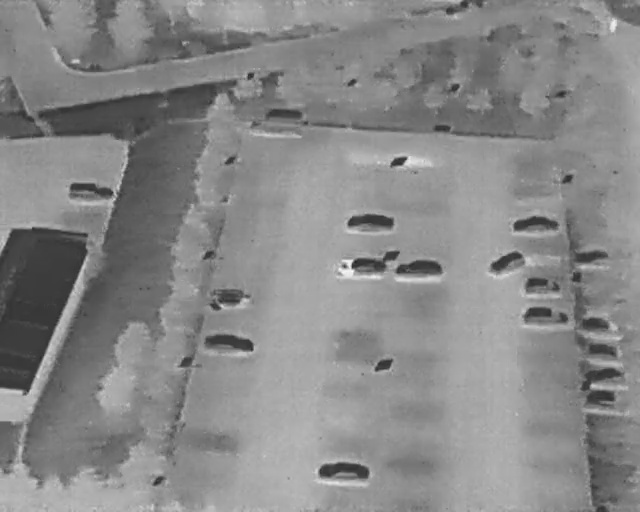Car: (250, 108, 312, 141), (486, 247, 527, 281), (209, 289, 256, 311), (204, 334, 255, 354), (318, 462, 370, 481), (337, 259, 386, 279), (395, 259, 443, 278), (346, 214, 394, 232), (69, 183, 114, 202), (524, 307, 569, 326), (513, 216, 560, 234), (584, 391, 628, 410), (584, 365, 623, 386), (582, 343, 624, 361), (579, 318, 620, 334), (523, 278, 561, 295), (573, 250, 611, 265)
